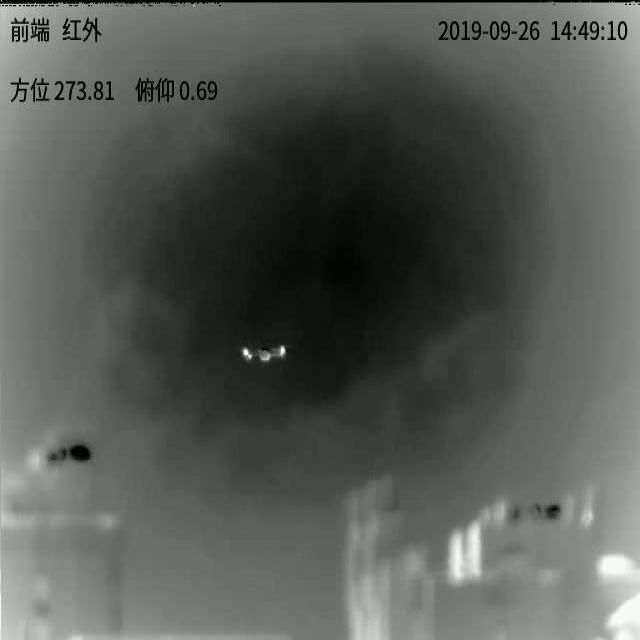drone: (241, 345, 286, 362)
